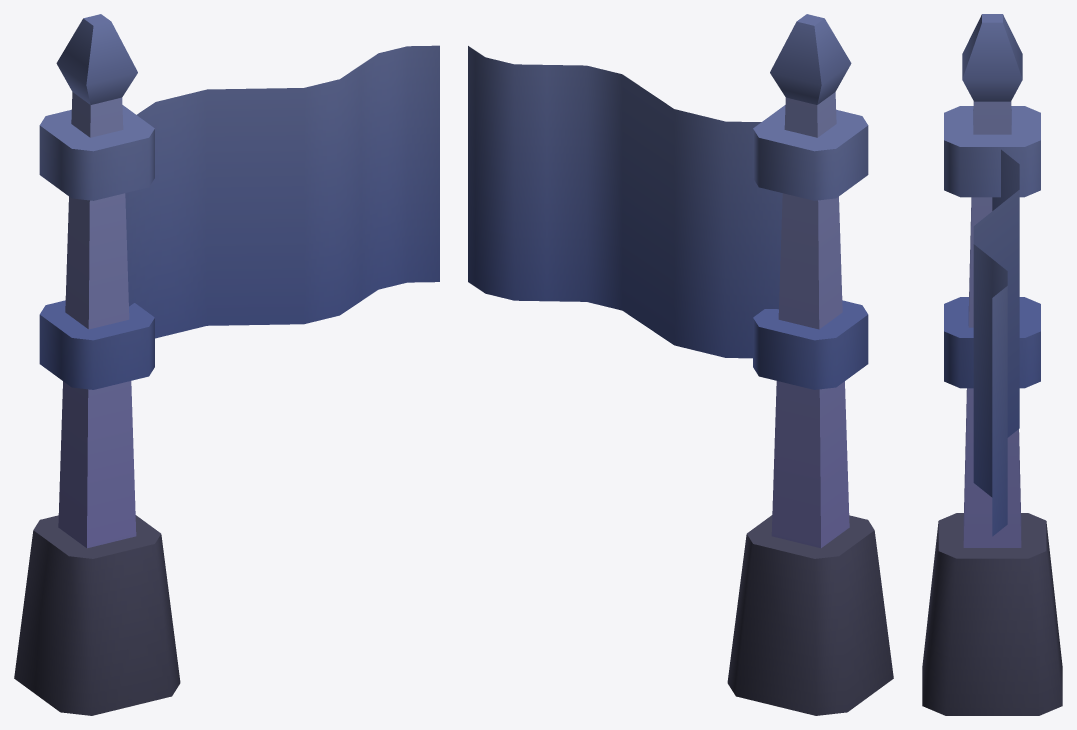
File: flag.fbx
The picture shows the model from 3 angles, left to right: view 1: azimuth 30°, elevation 25°; view 2: azimuth 150°, elevation 25°; view 3: azimuth 270°, elevation 25°; orthographic projection.
Visible parts, largest first — view 1: flag; view 2: flag; view 3: flag.
Part boxes in pixels (x1,y1,x2,y2): flag: (14,14,439,715); flag: (468,14,893,715); flag: (922,14,1062,715).
Bounding box in the file's own units: 134 × 210 × 39.89.
